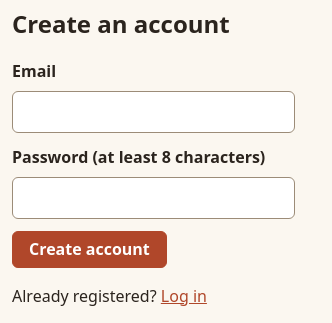
RegisterPage: the form › disables the button and changes its label while the request is running
This screenshot has width=332, height=323.
Click the button "Create account".
click(89, 249)  # box [12,231,167,268]
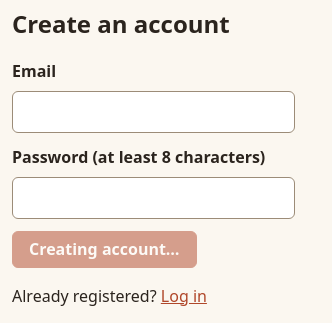
Expected: the button "Creating account…" is disabled, [12,231,196,268]
